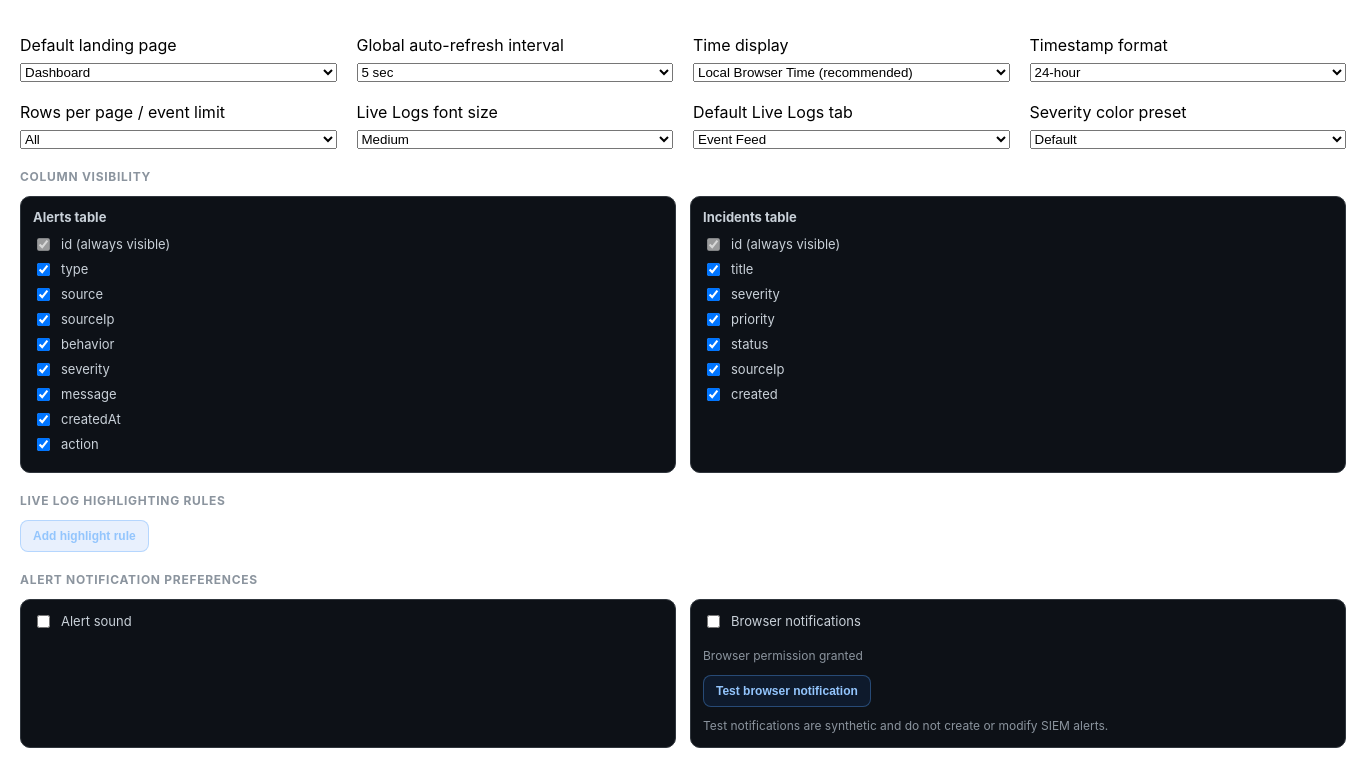
Test: Notification constructor errors are handled gracefully
The width and height of the screenshot is (1366, 768).
(page scrolled)
Click the button "Test browser notification".
click(787, 691)  # box [703,675,871,707]
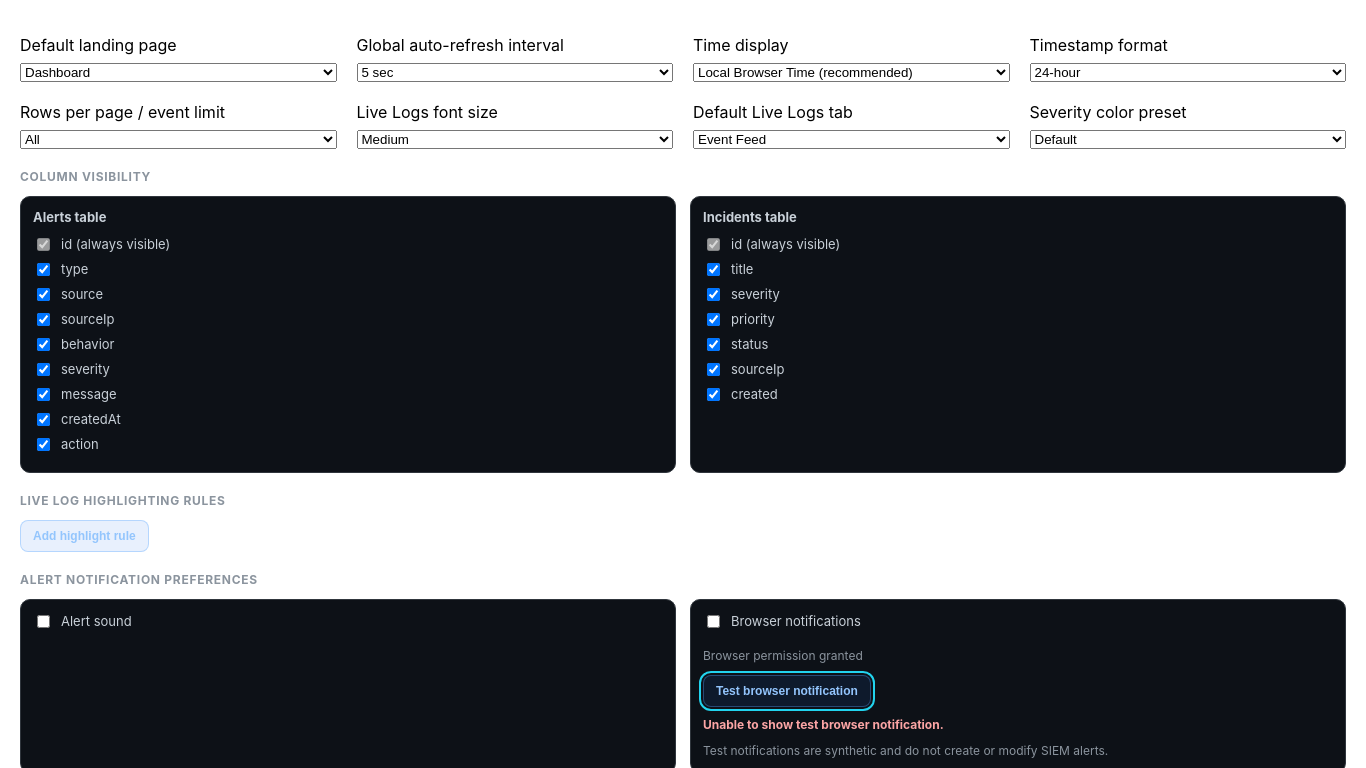
Expected: the text "Unable to show test browser notification." is shown, [703,717,944,732]
